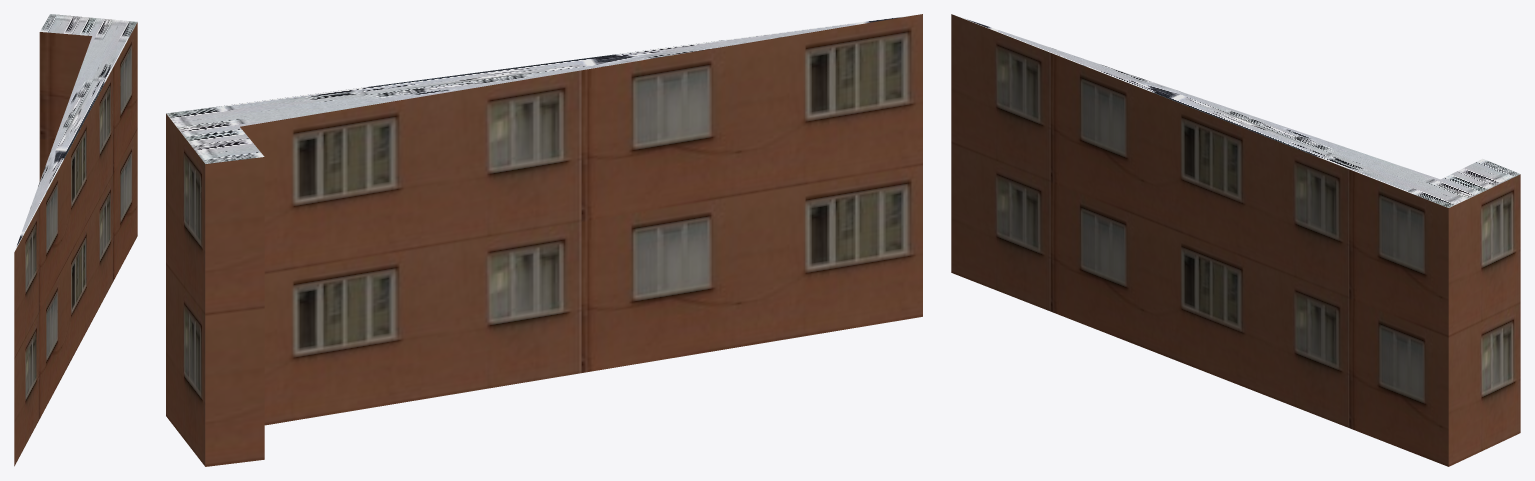
Rendered from ResTex__2781.fbx.
3 renders of one model, left to right at view 1: azimuth 30°, elevation 25°; view 2: azimuth 150°, elevation 25°; view 3: azimuth 270°, elevation 25°, orthographic. The views are drawn at different scales.
Visible parts, largest first — view 1: CityEngineMaterial_20_m, CityEngineMaterial_8_m; view 2: CityEngineMaterial_20_m, CityEngineMaterial_8_m; view 3: CityEngineMaterial_20_m, CityEngineMaterial_8_m.
Boxes of the visible parts, x1=… form: CityEngineMaterial_20_m: x1=14, y1=22, x2=137, y2=466; CityEngineMaterial_8_m: x1=15, y1=14, x2=137, y2=250; CityEngineMaterial_20_m: x1=166, y1=14, x2=922, y2=466; CityEngineMaterial_8_m: x1=166, y1=14, x2=919, y2=163; CityEngineMaterial_20_m: x1=951, y1=14, x2=1520, y2=466; CityEngineMaterial_8_m: x1=955, y1=15, x2=1520, y2=207.
Bounding box in the file's own units: 9.66 × 6 × 11.97.
Materials: 2 (2 with a texture image).
